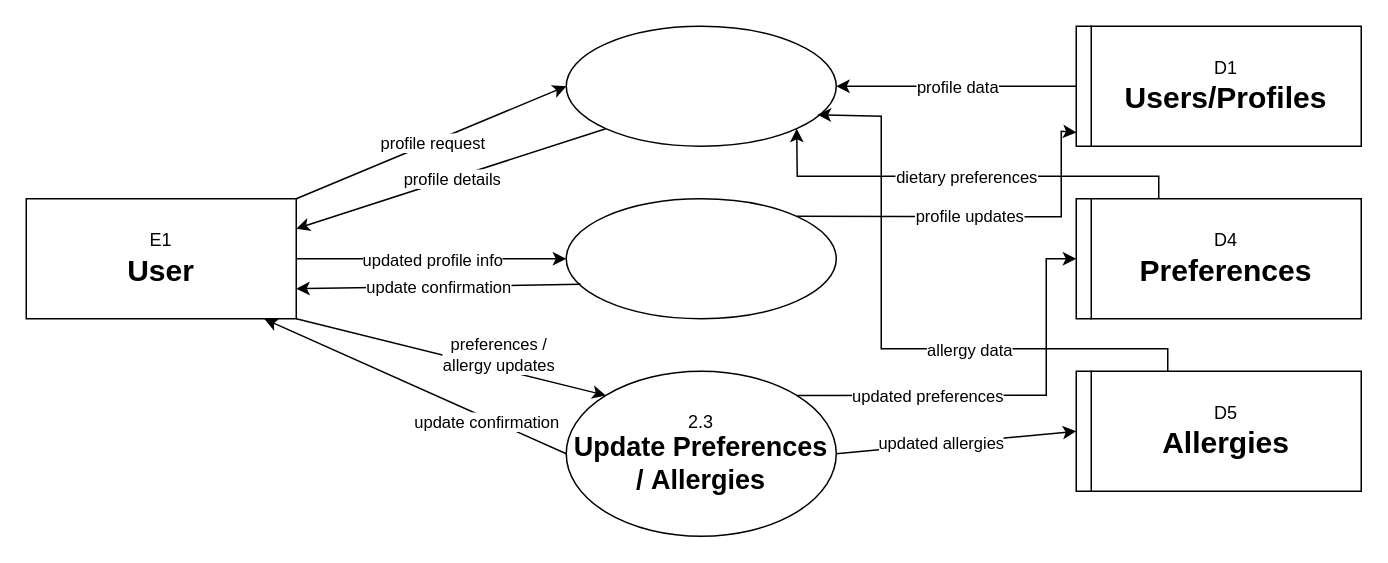
This 1388x563 diagram has some shape labels left out. The shapes that lost their labels are listed below. From the top down, each one's centre as x and y in pixels, then its label:
At [700,85]: "2.1 View Profile".
At [700,258]: "2.2 Update Profile".
